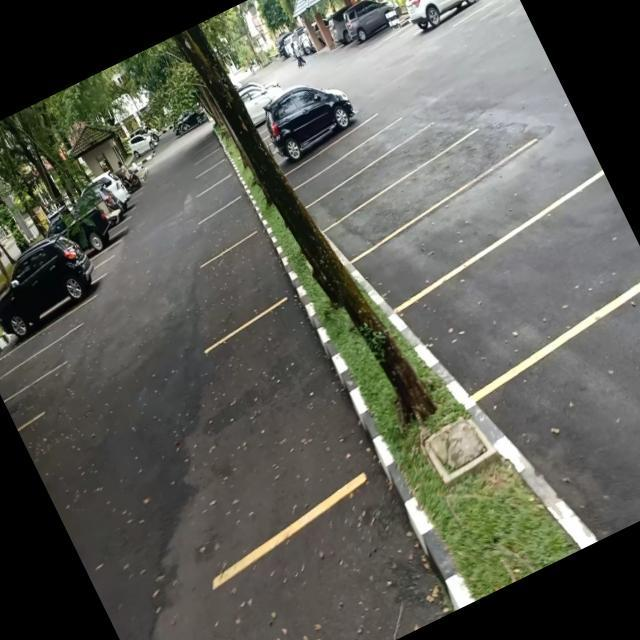empty: (154, 298, 388, 552), (410, 186, 640, 397), (358, 162, 554, 306), (328, 148, 484, 255), (311, 134, 450, 222), (195, 227, 296, 331), (292, 126, 407, 202), (0, 338, 79, 398), (198, 196, 262, 256), (192, 172, 245, 218)
occupied: (0, 251, 110, 345), (263, 91, 368, 173), (398, 0, 488, 40)
